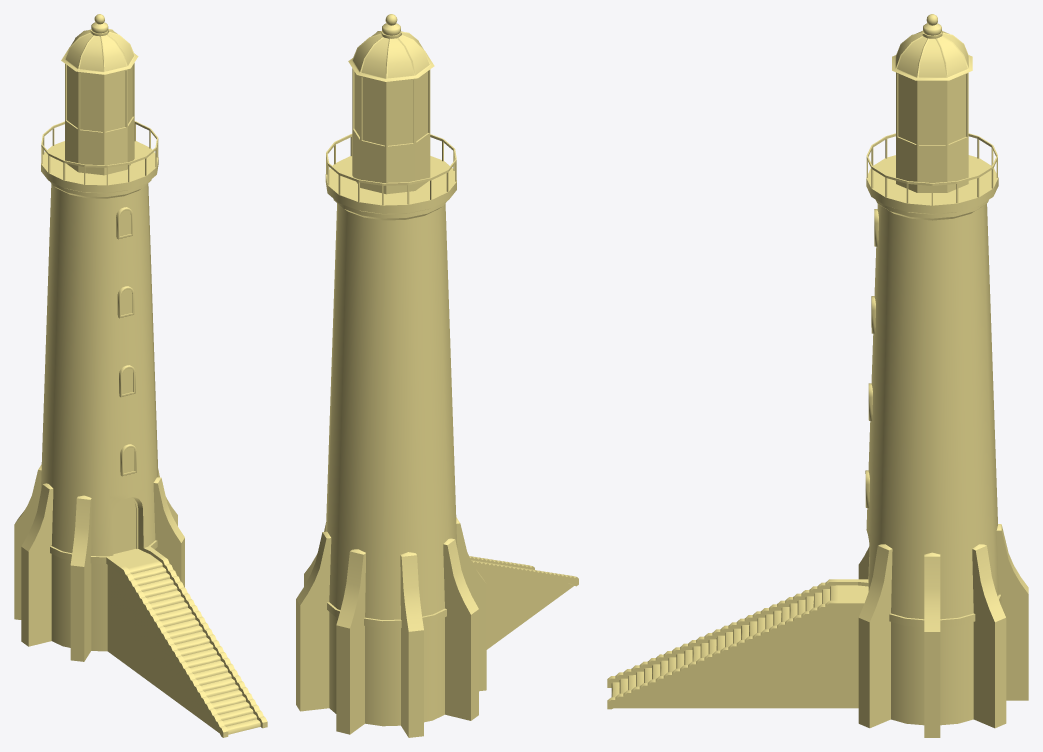
Rendered from StoneFort_Lighthouse.fbx.
3 renders of one model, left to right at view 1: azimuth 30°, elevation 25°; view 2: azimuth 150°, elevation 25°; view 3: azimuth 270°, elevation 25°, orthographic. The views are drawn at different scales.
Parts seen in each view (by area): view 1: StoneFort_Lighthouse; view 2: StoneFort_Lighthouse; view 3: StoneFort_Lighthouse.
Part boxes in pixels (x1,y1,x2,y2): StoneFort_Lighthouse: (14, 14, 267, 737); StoneFort_Lighthouse: (296, 14, 578, 737); StoneFort_Lighthouse: (607, 14, 1028, 737).
Bounding box in the file's own units: 8 × 31.25 × 17.49.
